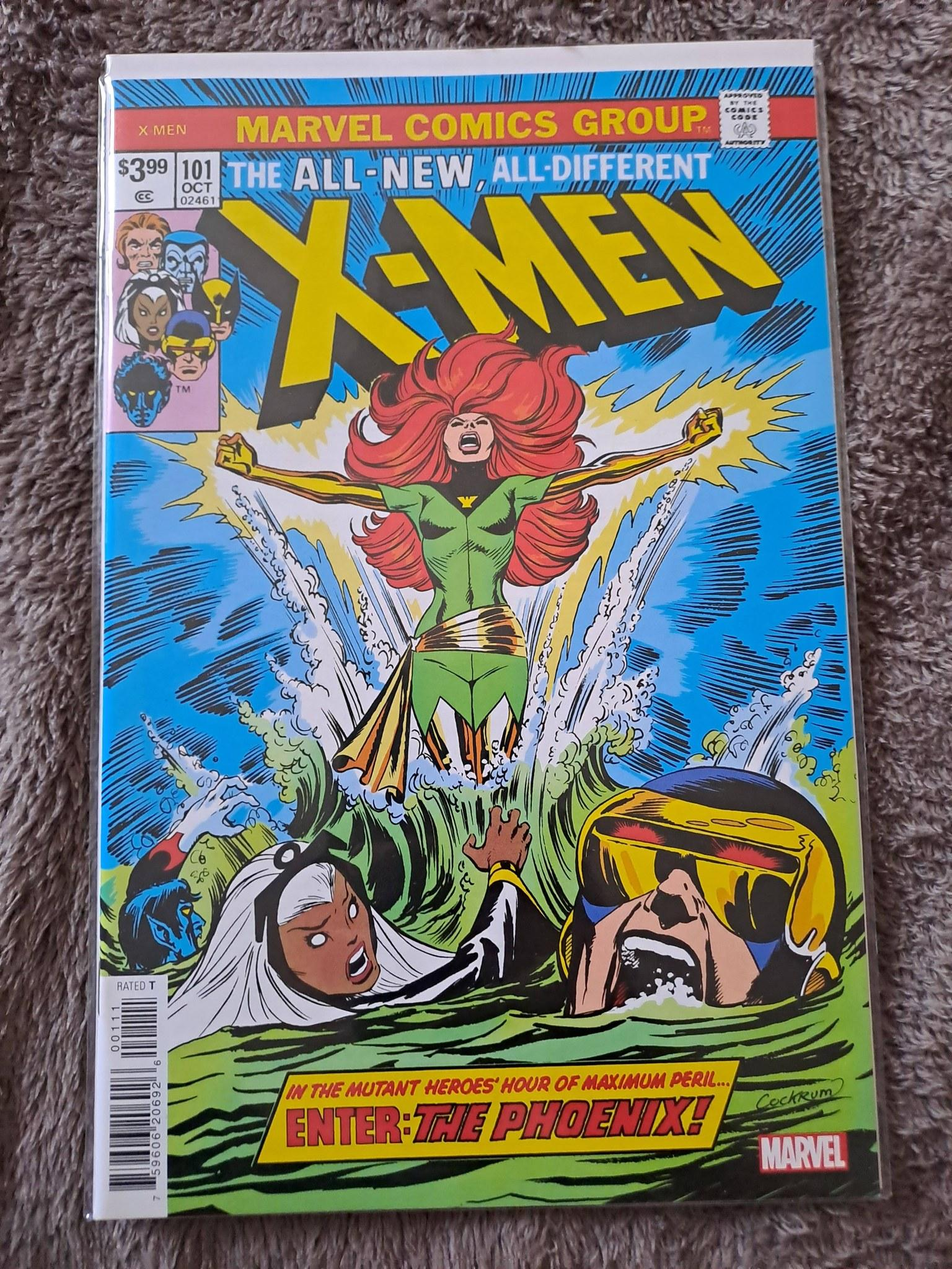comic: (67, 41, 883, 1217)
